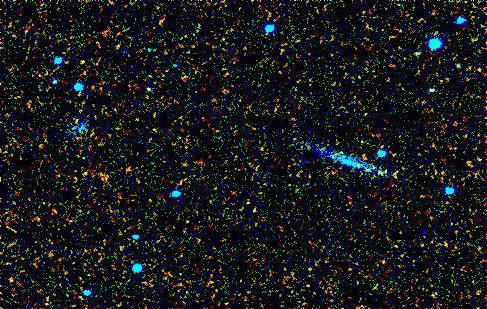star: (71, 45, 101, 75)
